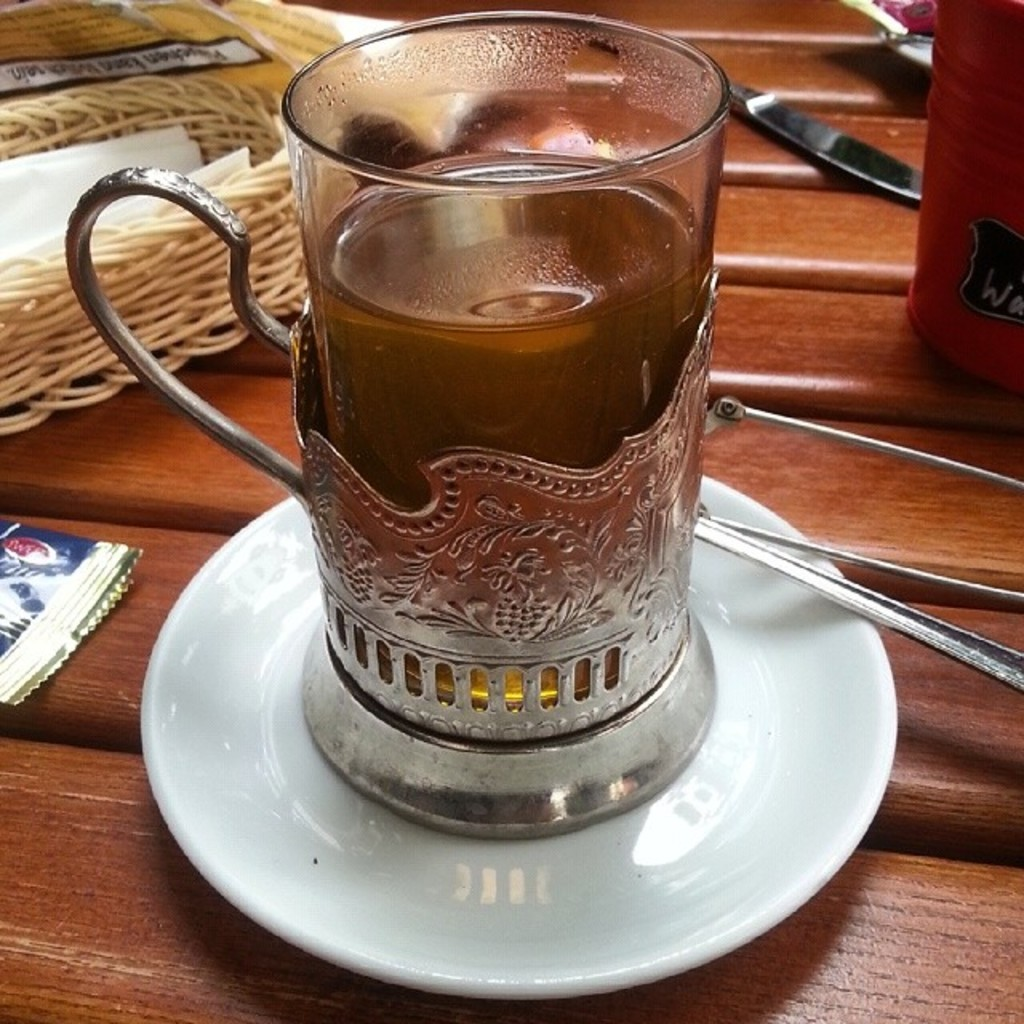Beer: (307, 147, 711, 721)
